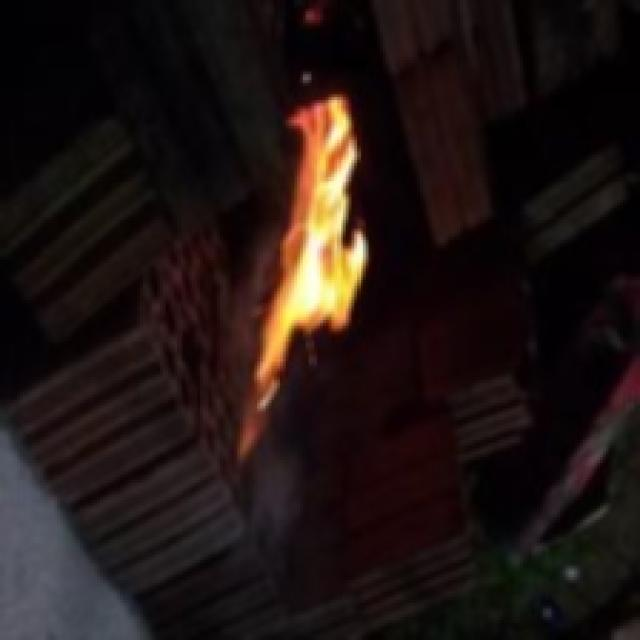fire: (215, 57, 398, 483)
